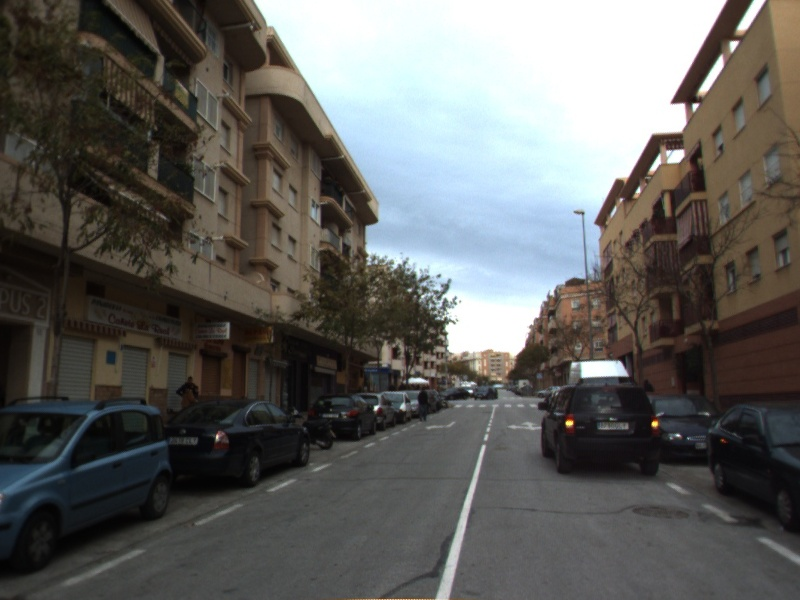STRAIGHT_LEFT_RIGHT: (505, 419, 543, 432)
